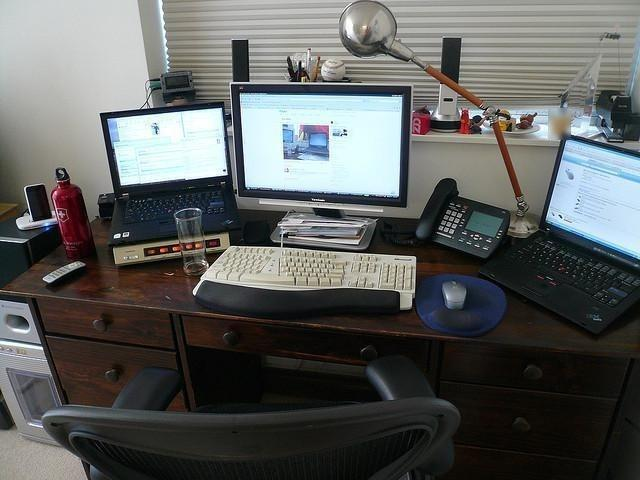glass-normal: (174, 208, 210, 276)
gym bottle: (51, 167, 97, 258)
